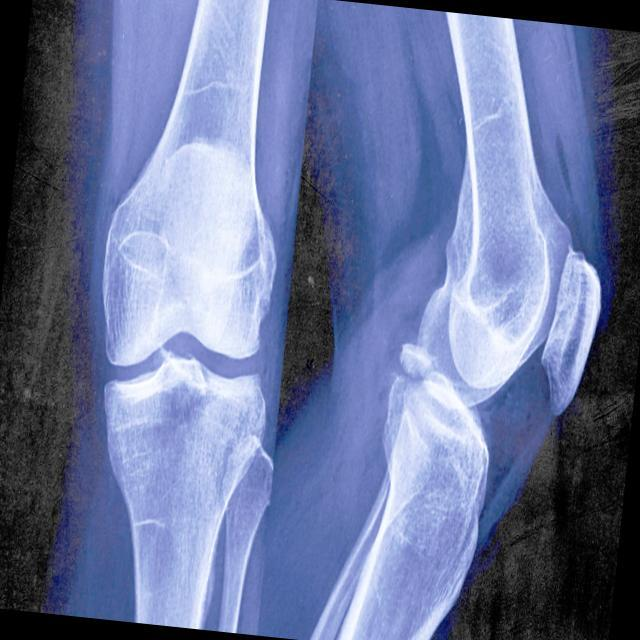Avlusion Fracture: (381, 320, 437, 385)
